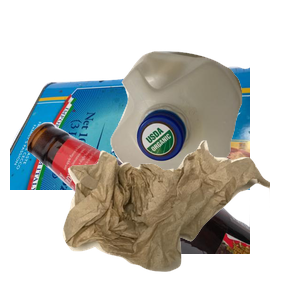glass: (25, 120, 265, 300)
metal: (10, 64, 250, 244)
plastic: (108, 49, 300, 226)
trash: (60, 138, 300, 300)
